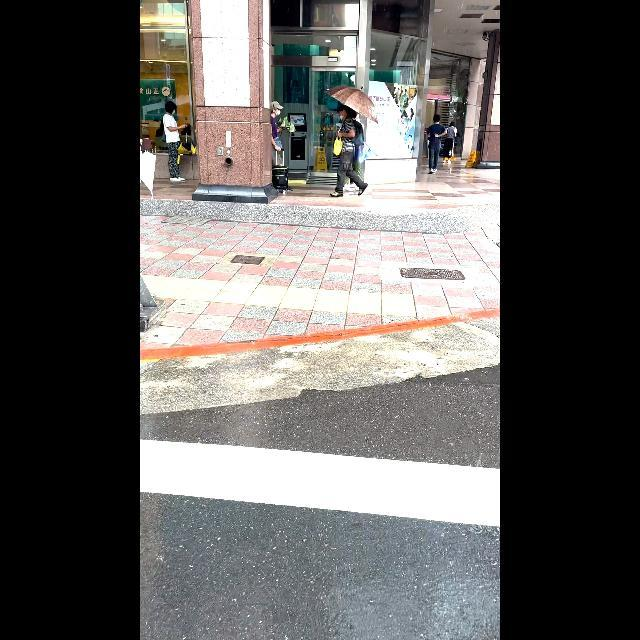sidewalk: (140, 357, 500, 640)
